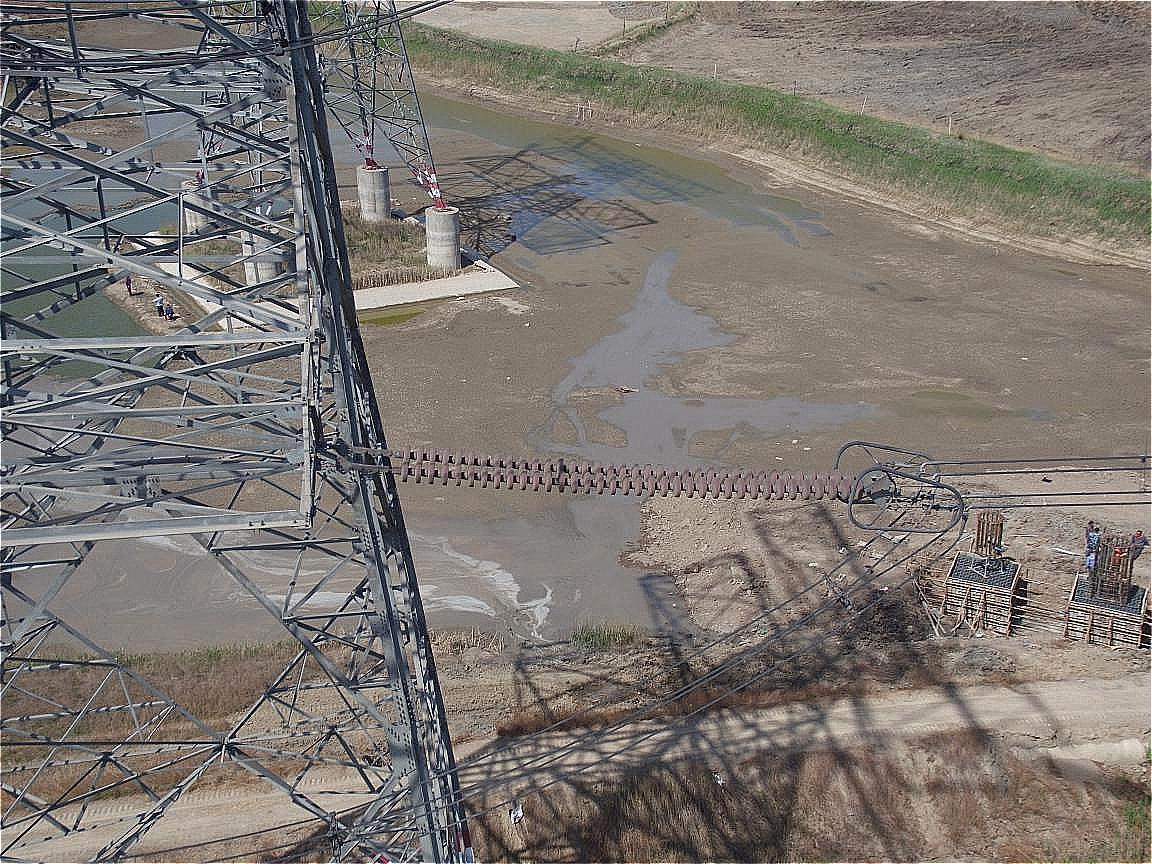insultor1: (398, 444, 865, 506)
